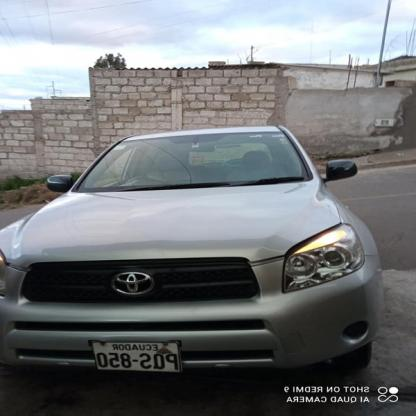Placa: (90, 338, 181, 378)
